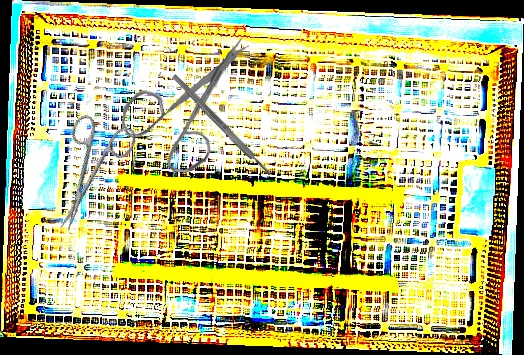Iris Scissors: (119, 30, 250, 176), (33, 107, 140, 242)
Scalpel Handle: (171, 72, 273, 178)
